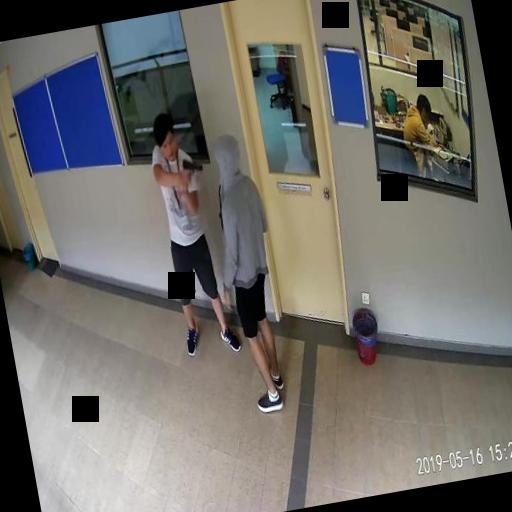Handgun: (178, 154, 204, 186)
